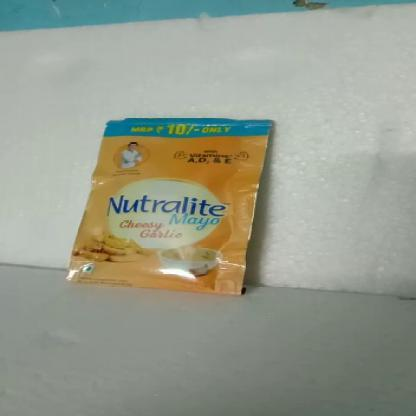Nutralite CHEESY GARLIC MAYO 30g: (96, 120, 243, 291)
